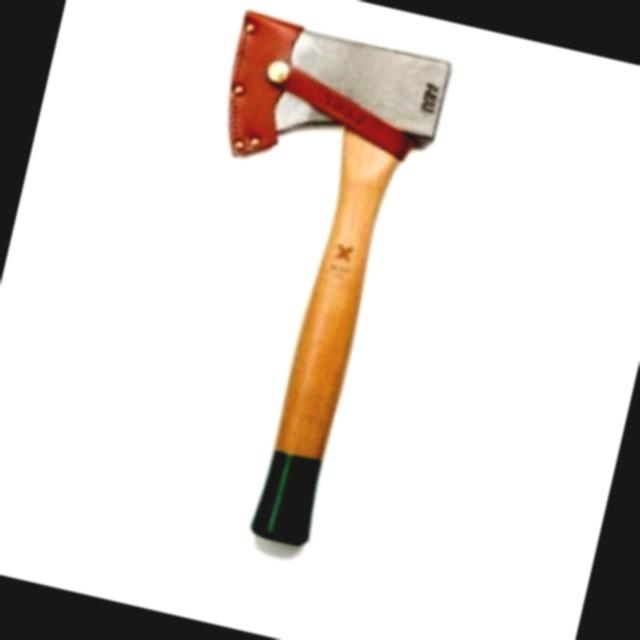ax: (110, 0, 464, 590)
